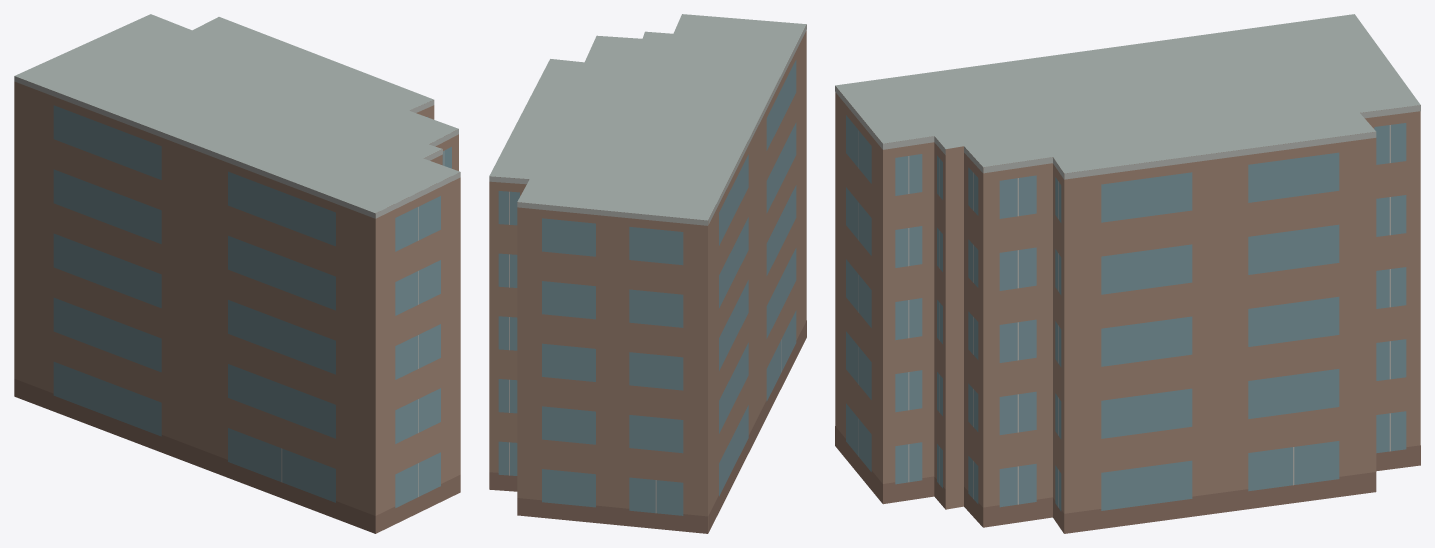
The model's file is survey-upis-33036864.glb.
3 views of the same model, side by side, from view 1: azimuth 30°, elevation 25°; view 2: azimuth 150°, elevation 25°; view 3: azimuth 270°, elevation 25° (orthographic). The views are drawn at different scales.
Parts seen in each view (by area): view 1: survey-upis-33036864.tmp; view 2: survey-upis-33036864.tmp; view 3: survey-upis-33036864.tmp.
Part boxes in pixels (x1=…): survey-upis-33036864.tmp: x1=14, y1=14, x2=460, y2=533; survey-upis-33036864.tmp: x1=489, y1=14, x2=806, y2=533; survey-upis-33036864.tmp: x1=835, y1=14, x2=1420, y2=533.
Size of the model in its own units: 13.58 by 14.3 by 21.07.
